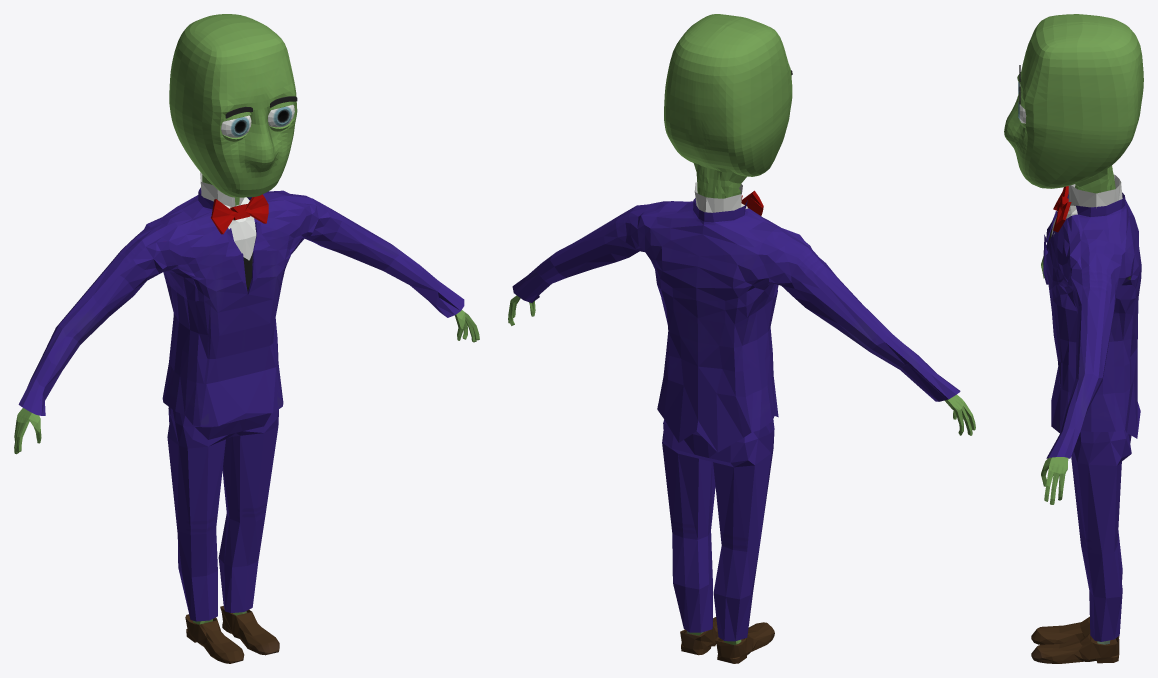
The model's file is alsmiffy low poly.obj.
The picture shows the model from 3 angles, left to right: view 1: azimuth 30°, elevation 25°; view 2: azimuth 150°, elevation 25°; view 3: azimuth 270°, elevation 25°; orthographic projection.
Parts seen in each view (by area): view 1: Full_figure_Sphere.028; view 2: Full_figure_Sphere.028; view 3: Full_figure_Sphere.028.
Part boxes in pixels (left/top/right/bottom): Full_figure_Sphere.028: left=14, top=14, right=479, bottom=663; Full_figure_Sphere.028: left=508, top=14, right=975, bottom=663; Full_figure_Sphere.028: left=1004, top=14, right=1143, bottom=663.
Bounding box in the file's own units: 6.35 × 8.11 × 1.64.
Materials: 2 (2 with a texture image).
